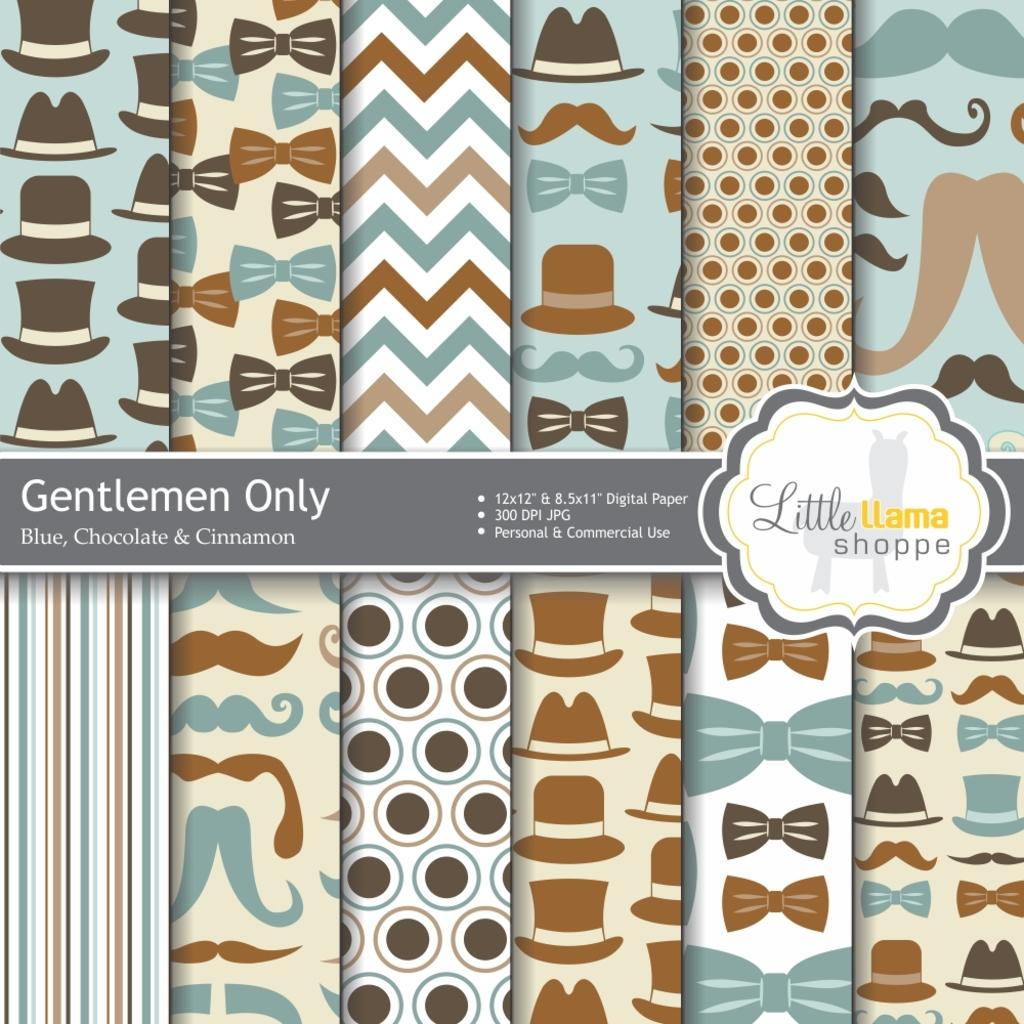Hat: (516, 242, 636, 330), (0, 275, 109, 364), (0, 176, 110, 264), (512, 11, 642, 84), (514, 776, 624, 862), (0, 370, 116, 450), (510, 592, 620, 676), (514, 690, 632, 766), (516, 877, 618, 964), (0, 0, 110, 78), (0, 90, 110, 162), (115, 235, 172, 328), (854, 938, 936, 1000), (628, 836, 686, 923), (950, 774, 1023, 840), (115, 342, 170, 428), (856, 775, 940, 829), (118, 54, 172, 134), (944, 606, 1022, 660), (623, 753, 680, 826), (524, 974, 608, 1022), (634, 654, 682, 737), (944, 940, 1022, 990), (112, 155, 168, 224), (633, 938, 679, 1020), (854, 628, 934, 673), (628, 574, 678, 642), (114, 0, 172, 39), (647, 264, 681, 316), (141, 442, 168, 454)
